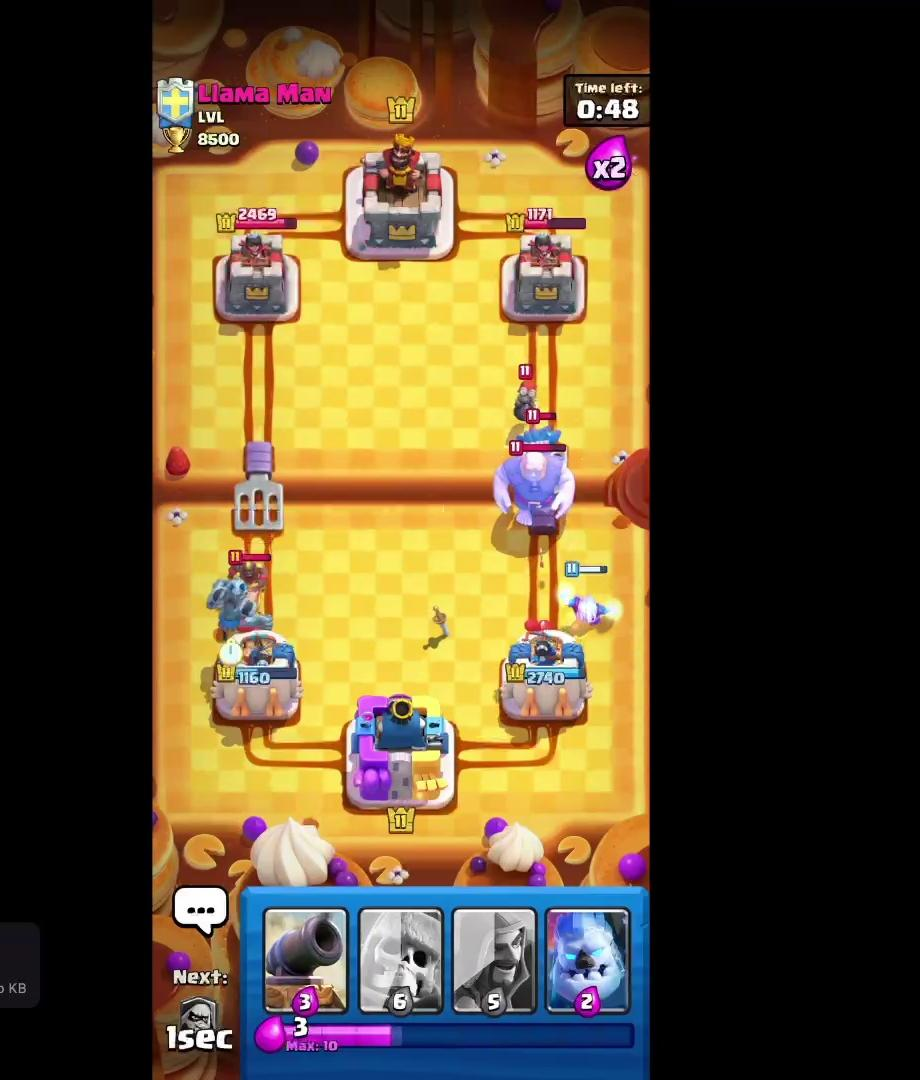Bomber: (493, 361, 557, 414)
Giant: (495, 446, 594, 545)
Hog Rider: (210, 524, 292, 607)
